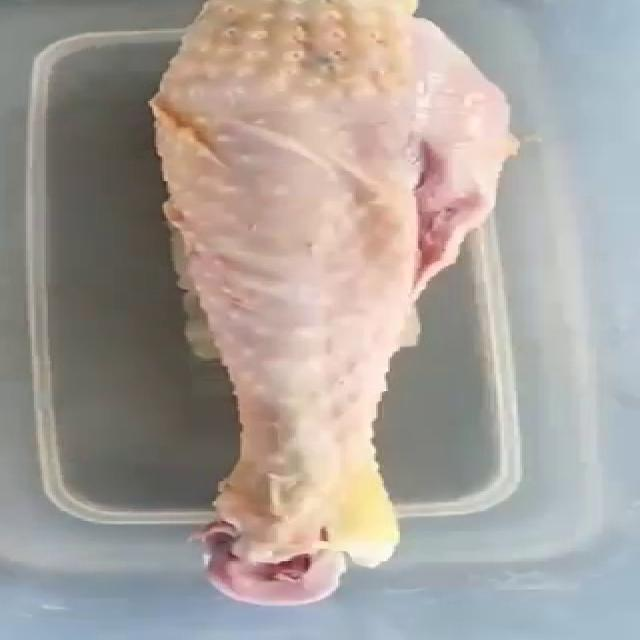chicken: (147, 0, 518, 607)
